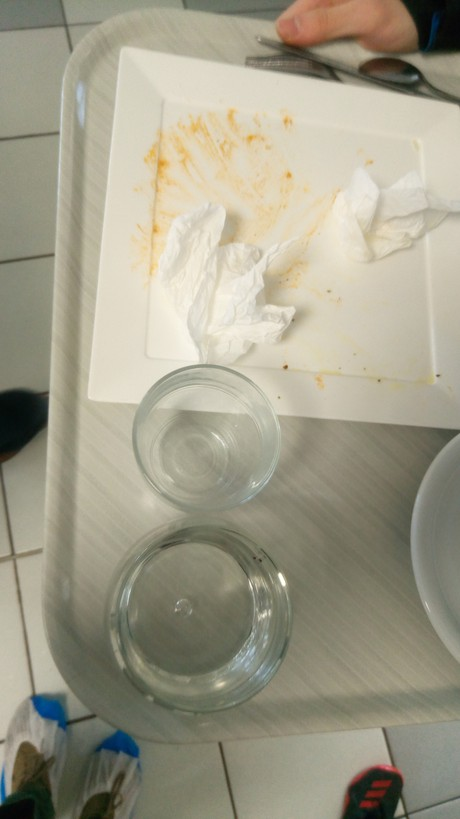cup: (127, 347, 283, 518)
cutlery: (247, 18, 454, 94)
trash: (159, 210, 293, 365), (322, 162, 444, 260)
